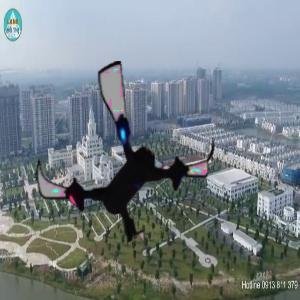drone: (28, 62, 219, 253)
